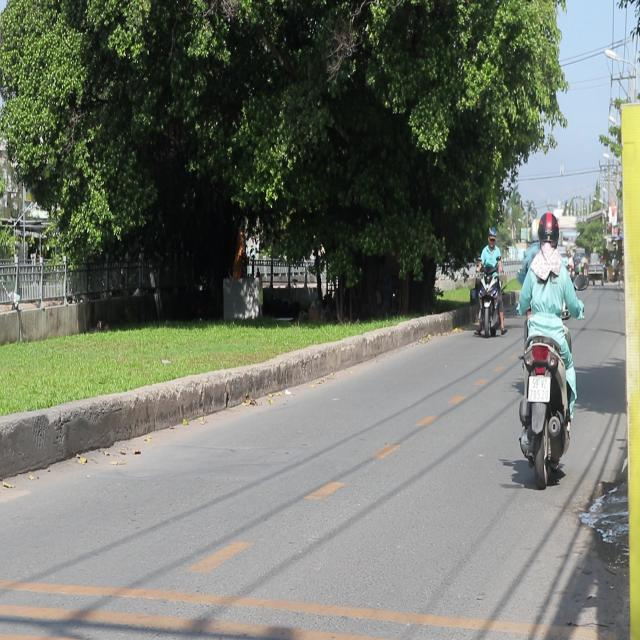helmet: (536, 209, 559, 247)
licenseplate: (513, 208, 582, 486)
nohelmet: (528, 375, 550, 402)
